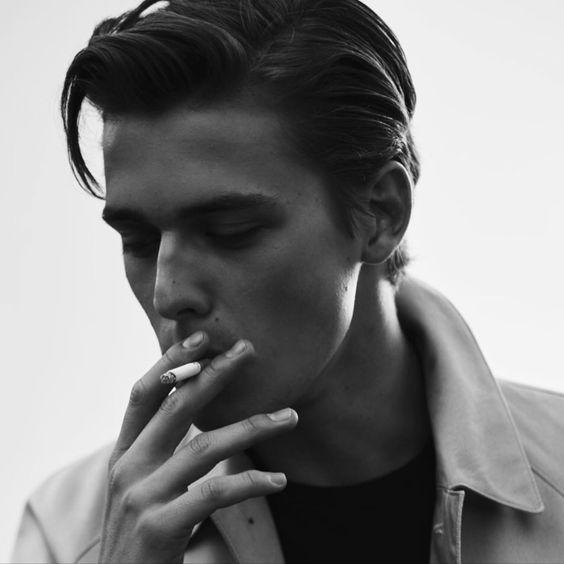cigarette: (159, 357, 212, 384)
